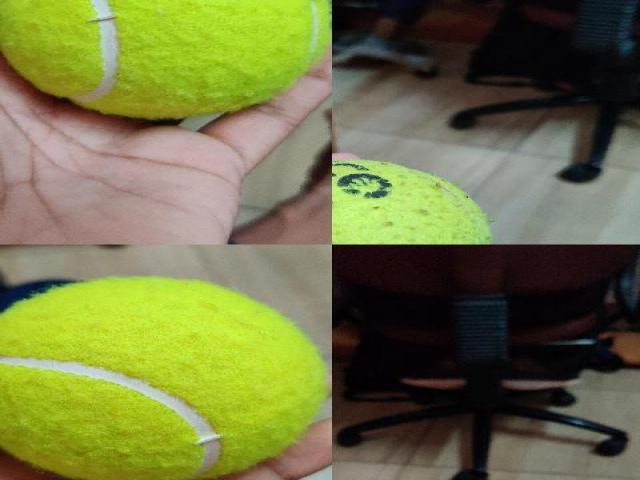tennis-ball: (0, 277, 325, 479), (0, 0, 331, 118), (332, 158, 490, 244)
